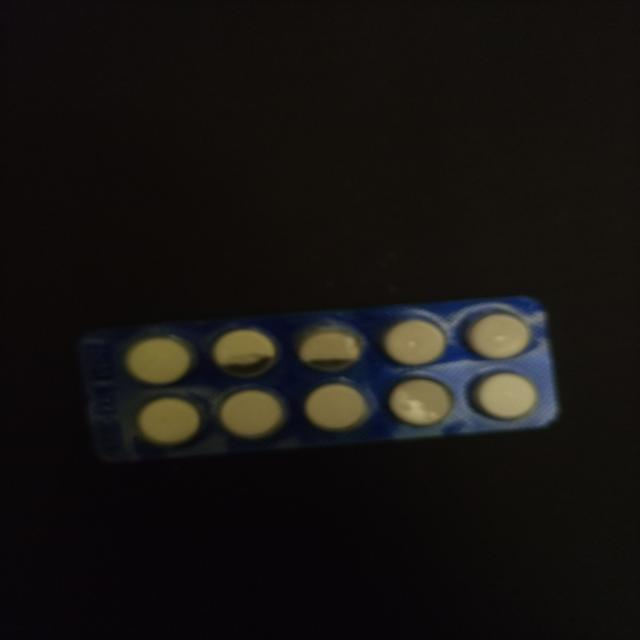defect: (206, 324, 281, 380), (292, 323, 368, 376)
